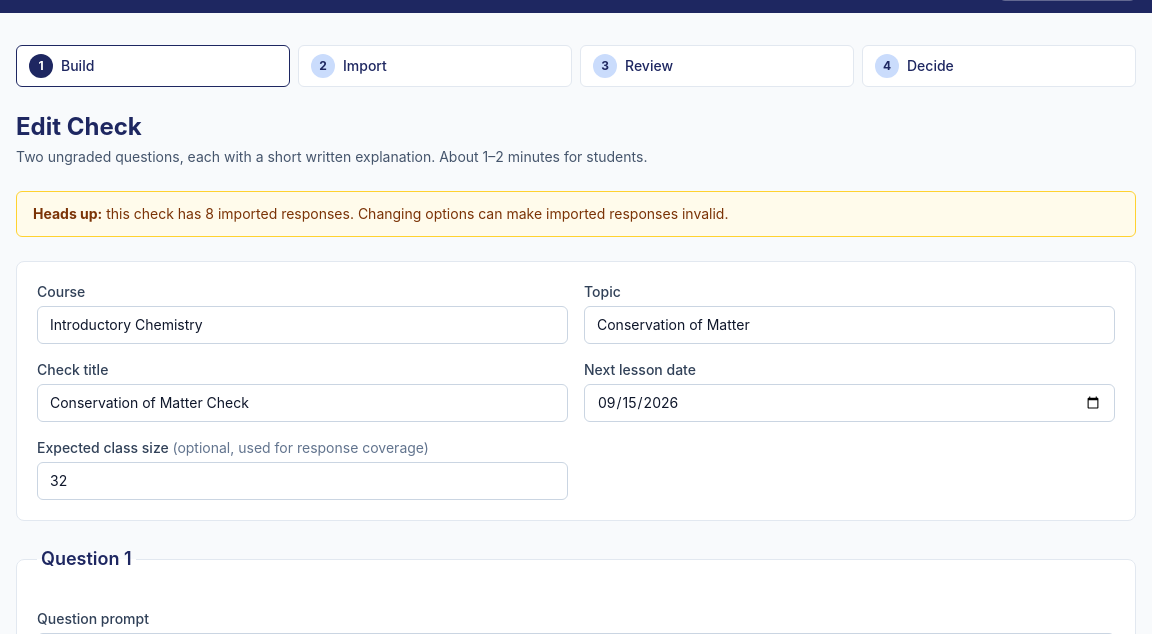
Edit saves changes to the same check
Replace the text in the field labelled "Check title" with "Matter Check v2" at (302, 403), box 37,384 -> 568,422
(page scrolled)
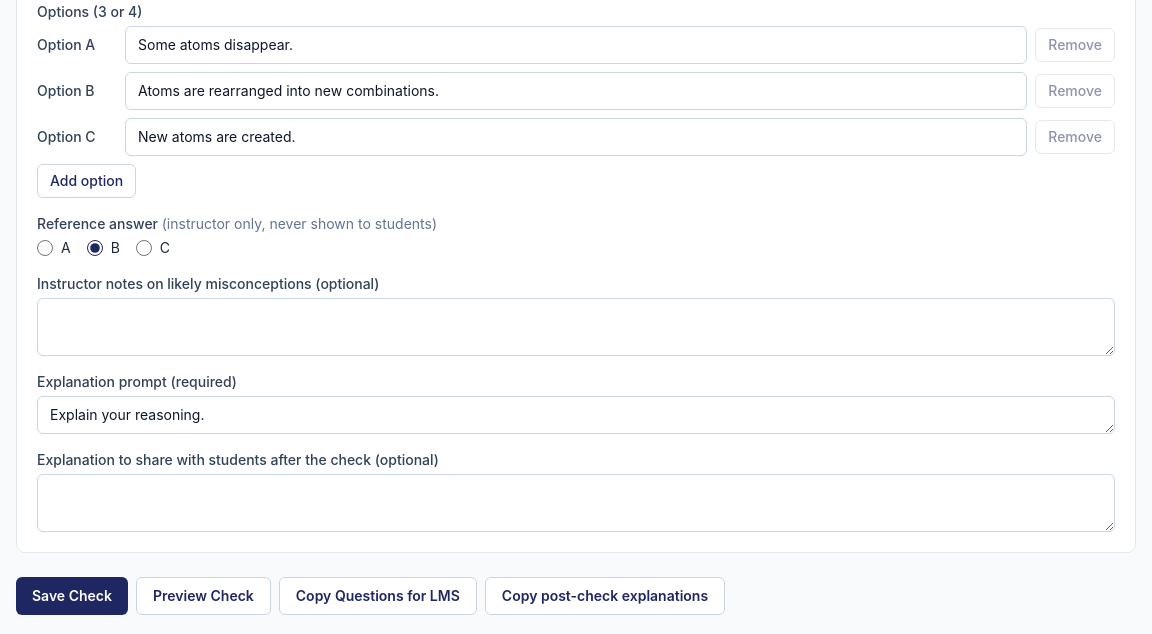
Click the button "Save Check" at (72, 596), box 16,577 -> 128,615
(page scrolled)
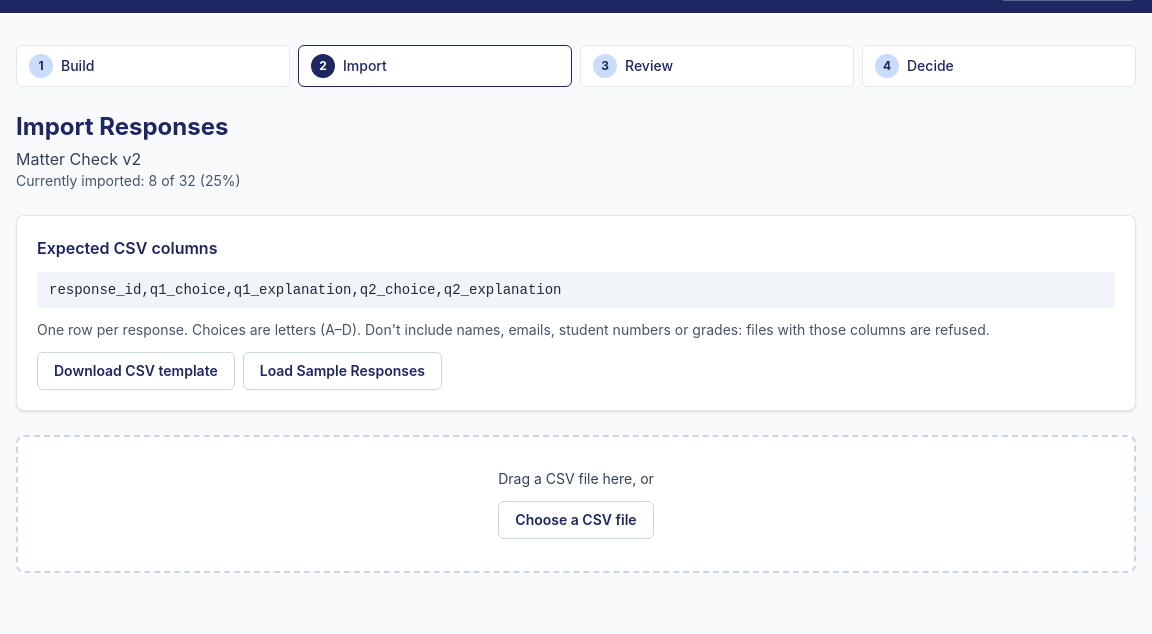
Result: the text "Matter Check v2" is shown at 16,149 -> 141,169
